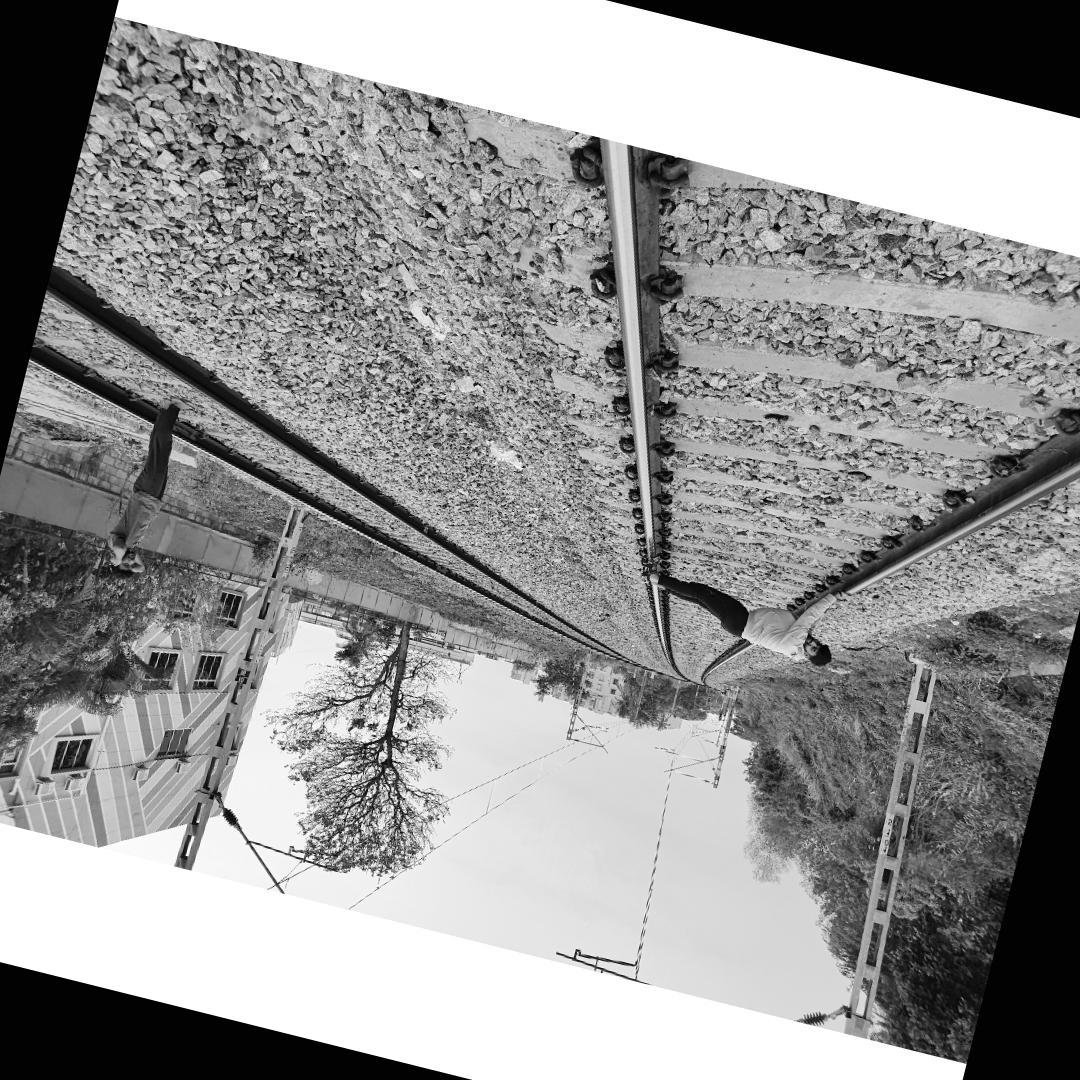sleeping: (632, 540, 854, 672)
standing: (96, 389, 197, 588)
track: (562, 128, 1080, 694)
